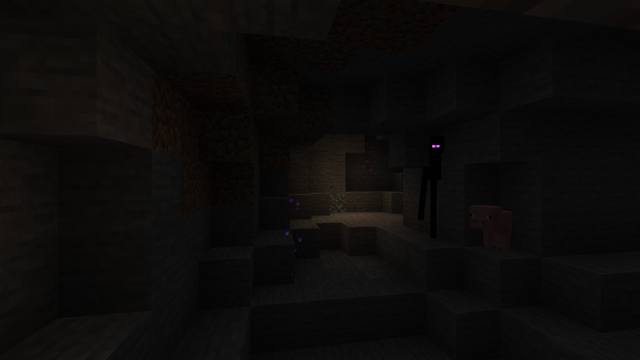cochons: (484, 207, 516, 250)
endermens: (422, 131, 444, 240)
